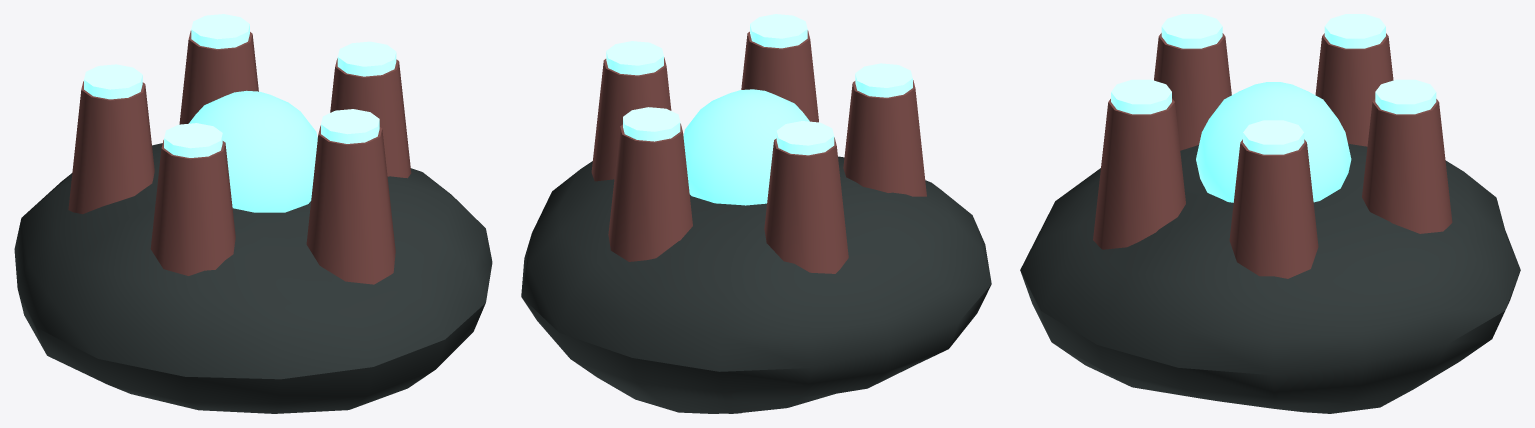
The model's file is spore_nest.glb.
3 views of the same model, side by side, from view 1: azimuth 30°, elevation 25°; view 2: azimuth 150°, elevation 25°; view 3: azimuth 270°, elevation 25° (orthographic). The views are drawn at different scales.
Parts seen in each view (by area): view 1: body_mesh; view 2: body_mesh; view 3: body_mesh.
Boxes of the visible parts, x1=… form: body_mesh: x1=14, y1=14, x2=492, y2=413; body_mesh: x1=521, y1=14, x2=991, y2=413; body_mesh: x1=1020, y1=14, x2=1520, y2=413.
Size of the model in its own units: 0.8978 by 0.6287 by 0.9013.
